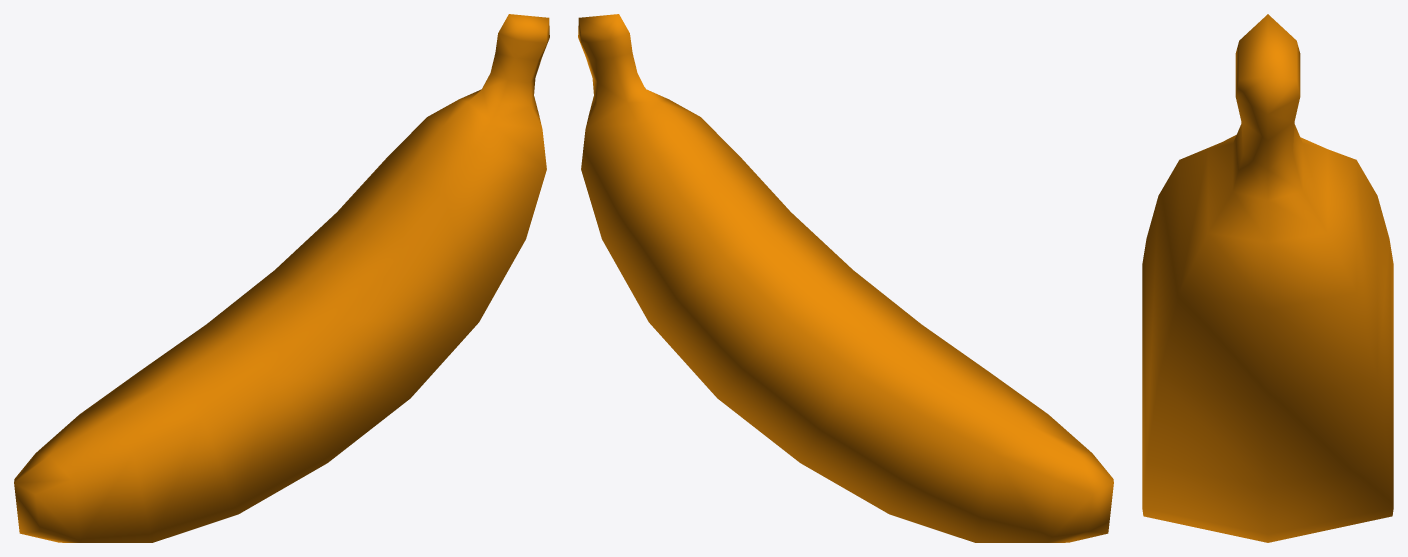
The model's file is banana.glb.
3 renders of one model, left to right at view 1: azimuth 30°, elevation 25°; view 2: azimuth 150°, elevation 25°; view 3: azimuth 270°, elevation 25°, orthographic. The views are drawn at different scales.
Parts seen in each view (by area): view 1: Cube.203; view 2: Cube.203; view 3: Cube.203.
Boxes of the visible parts, x1,y1,x2,y2 form: Cube.203: (14, 14, 549, 542); Cube.203: (578, 14, 1113, 542); Cube.203: (1142, 14, 1393, 542).
Bounding box in the file's own units: 2.03 × 1.55 × 0.4398.
